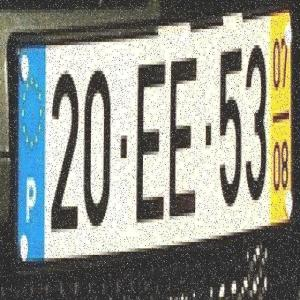Plate: (12, 32, 297, 260)
